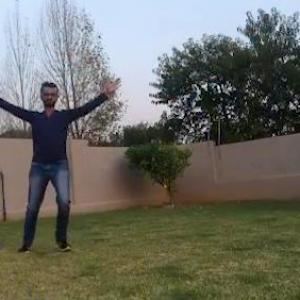takeoff: (1, 84, 127, 245)
